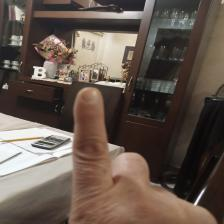one: (61, 84, 219, 224)
